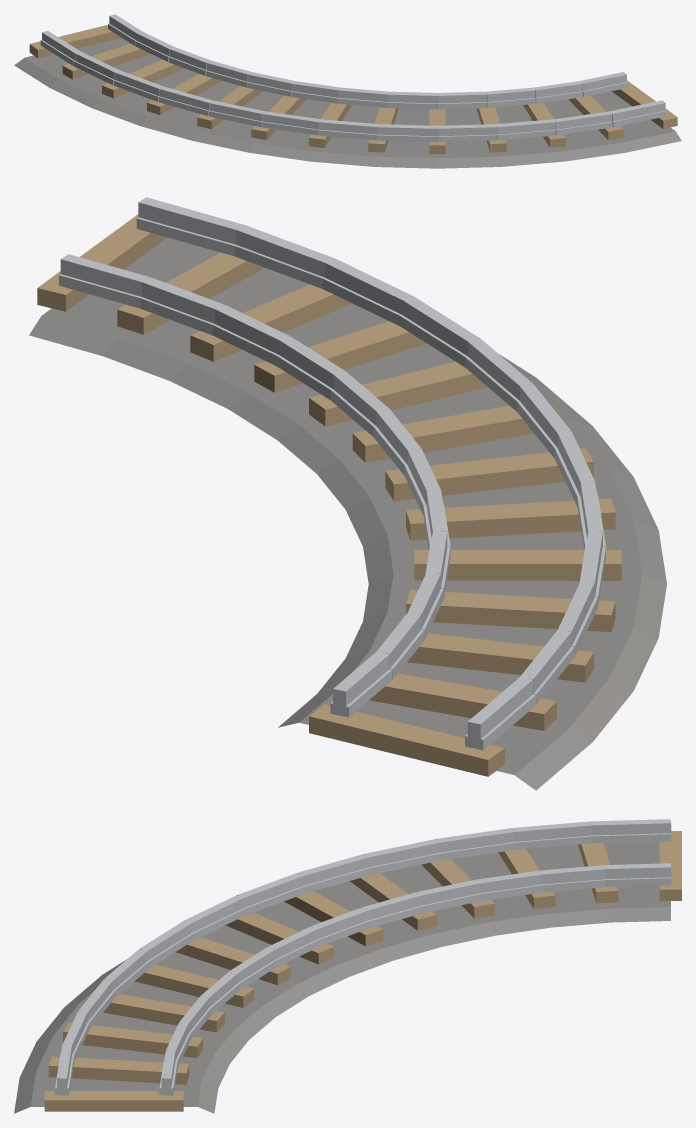
Rendered from underground-mine-and-shaft-works-track-narrow-curve-72d3ab75.glb.
The picture shows the model from 3 angles, top to bottom: view 1: azimuth 30°, elevation 25°; view 2: azimuth 150°, elevation 25°; view 3: azimuth 270°, elevation 25°; orthographic projection. The views are drawn at different scales.
Visible parts, largest first — view 1: track-narrow-curve; view 2: track-narrow-curve; view 3: track-narrow-curve.
Boxes of the visible parts, x1,y1,x2,y2 form: track-narrow-curve: [14, 14, 681, 168]; track-narrow-curve: [29, 197, 666, 790]; track-narrow-curve: [14, 819, 681, 1113].
Size of the model in its own units: 4.8 by 0.2799 by 4.8.
